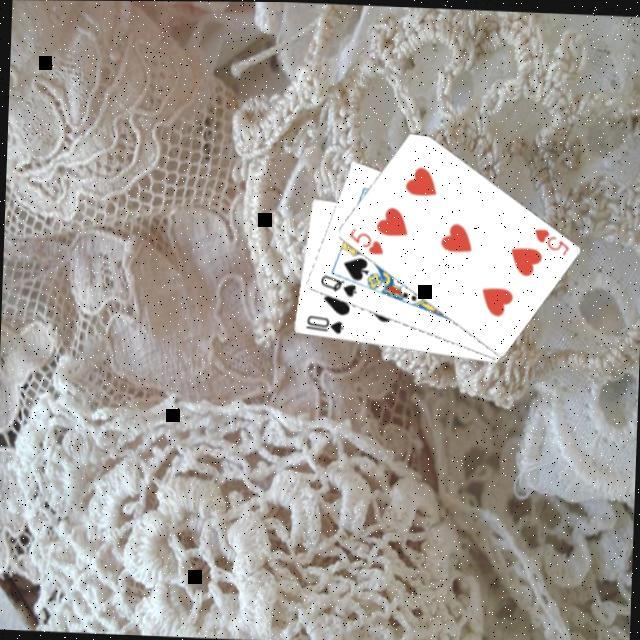10S: (300, 309, 344, 335)
5H: (527, 222, 570, 255), (343, 222, 384, 254)
QS: (314, 268, 358, 298)
